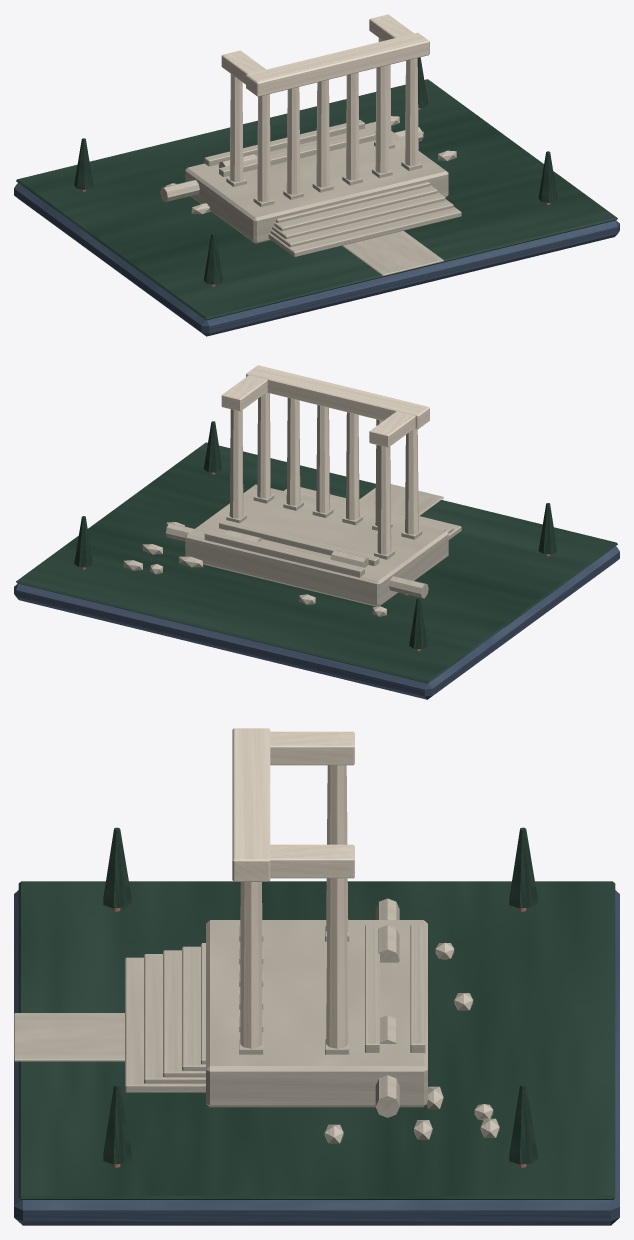
File: roman-forum-diorama.glb
3 views of the same model, one above another, from view 1: azimuth 30°, elevation 25°; view 2: azimuth 150°, elevation 25°; view 3: azimuth 270°, elevation 25° (orthographic). The views are drawn at different scales.
Visible parts, largest first — view 1: roman-forum; view 2: roman-forum; view 3: roman-forum.
Boxes of the visible parts, <box> form: roman-forum: <box>14,14,619,336</box>; roman-forum: <box>14,365,619,699</box>; roman-forum: <box>14,728,619,1225</box>.
Size of the model in its own units: 15 by 6.03 by 12.
1 material, 1 textured.
